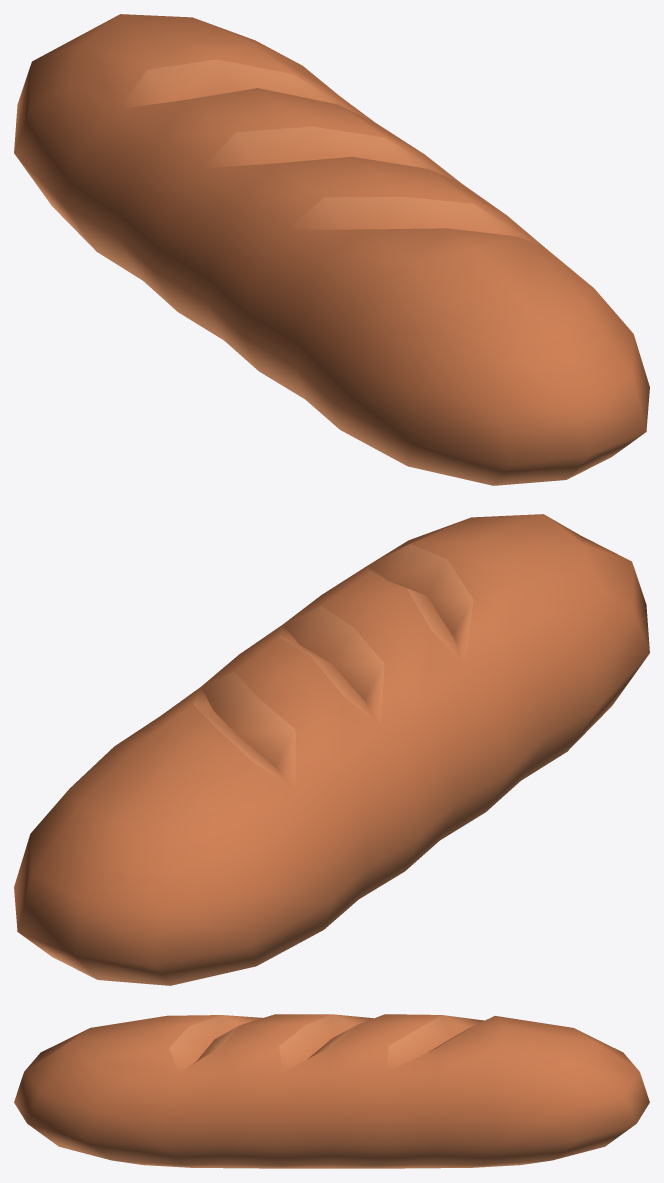
File: baguette.obj
The picture shows the model from 3 angles, top to bottom: view 1: azimuth 30°, elevation 25°; view 2: azimuth 150°, elevation 25°; view 3: azimuth 270°, elevation 25°; orthographic projection. The views are drawn at different scales.
Visible parts, largest first — view 1: baguette; view 2: baguette; view 3: baguette.
Part boxes in pixels (x1,y1,x2,y2): baguette: (14, 14, 649, 485); baguette: (14, 514, 649, 985); baguette: (14, 1014, 649, 1168).
Bounding box in the file's own units: 0.3706 × 0.2716 × 1.23.
Materials: 1 (1 with a texture image).
